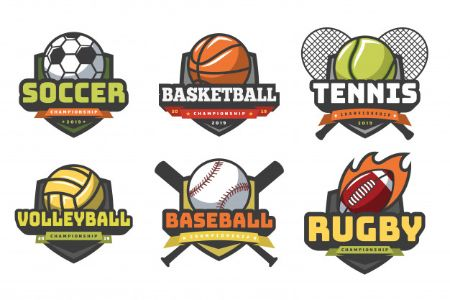baloncesto: (187, 33, 252, 87)
futbol americano: (339, 169, 394, 213)
voleibol: (42, 164, 106, 211)
